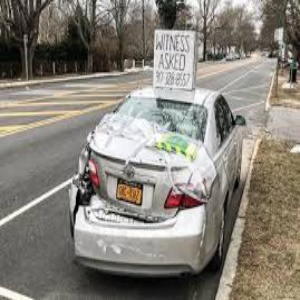bumper: (71, 205, 191, 275)
